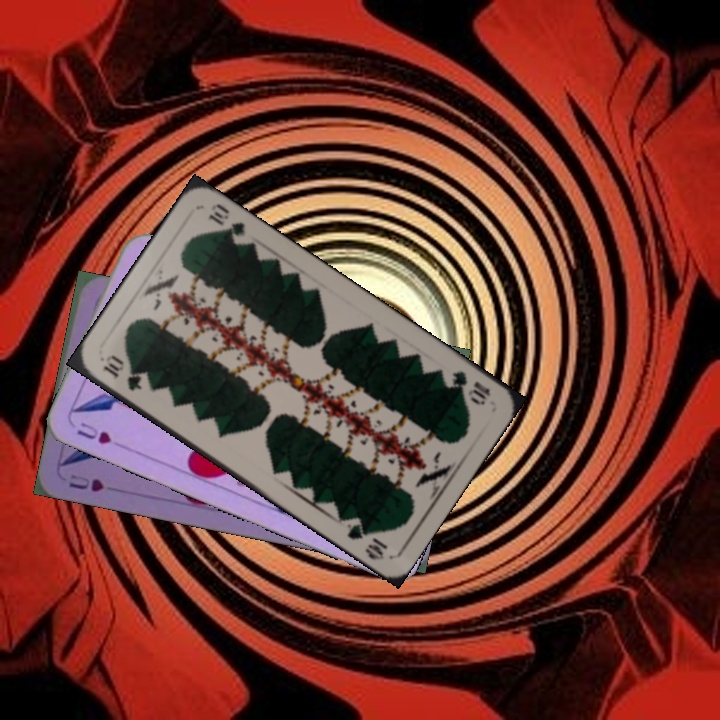G10: (446, 366, 493, 409), (99, 351, 145, 394)
HU: (72, 418, 114, 447), (65, 470, 107, 494)
